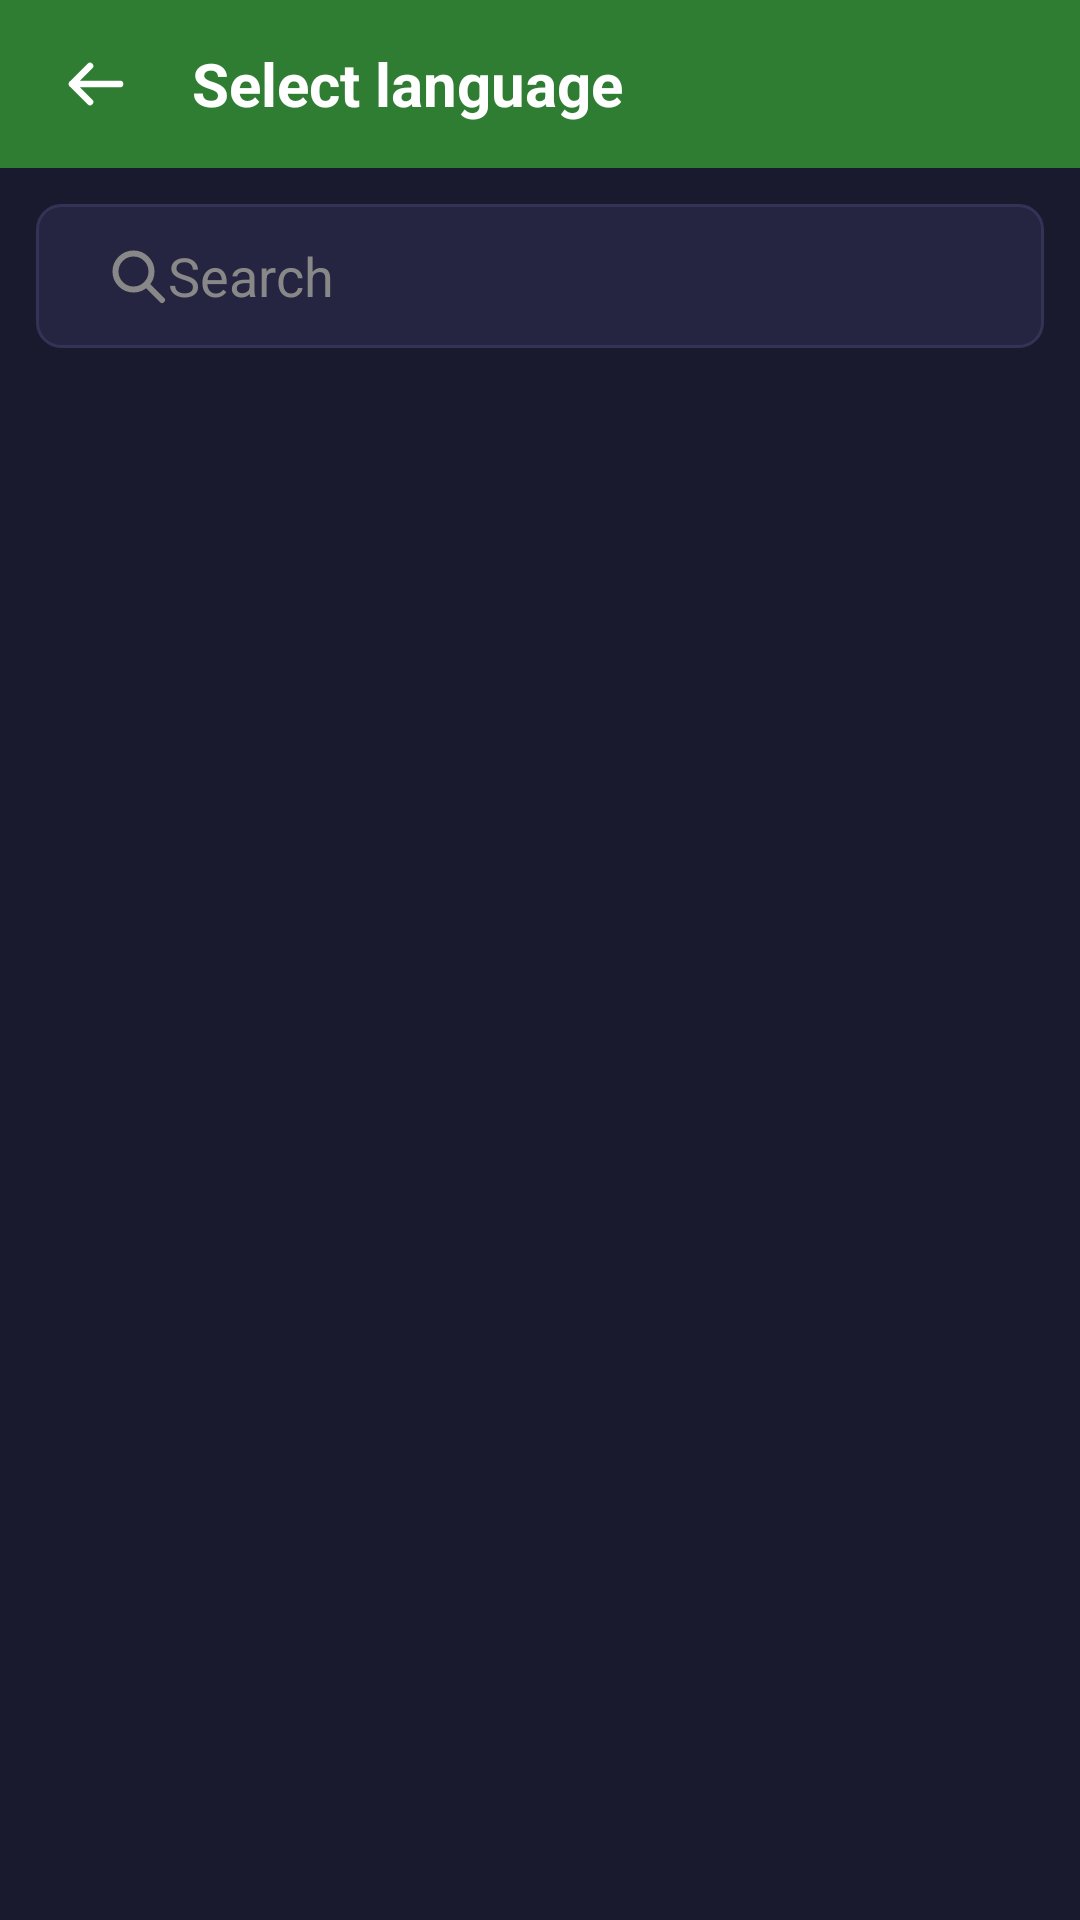

Icon bounding boxes for this 1080px x 1920px phone screenshot, format [x1=x1, y1=y1, x2=x2, y2=y2]:
Back: [x1=68, y1=62, x2=124, y2=106]
